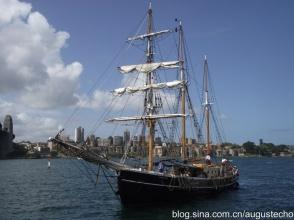fanchuan: (49, 3, 234, 205)
